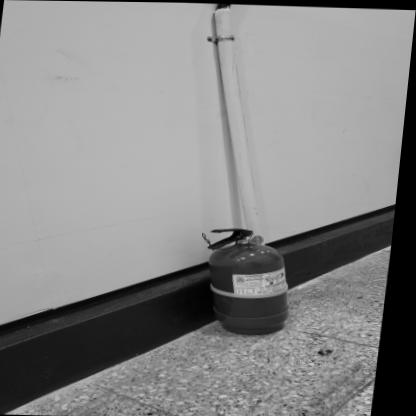FE: (203, 226, 306, 335)
